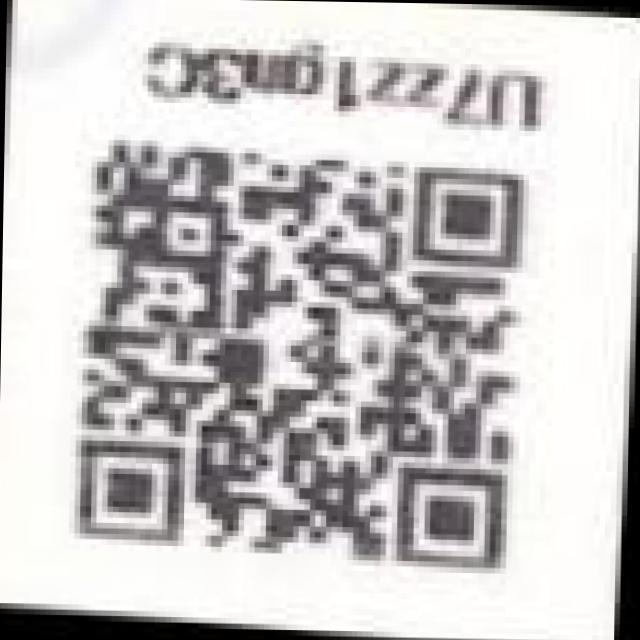QRCode: (51, 122, 557, 596)
